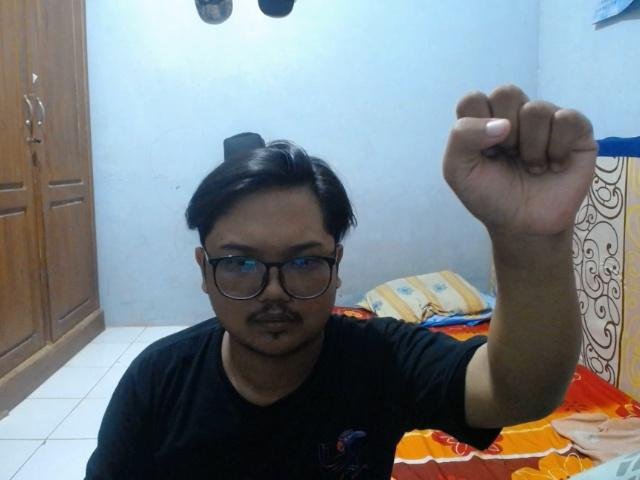Grab: (440, 81, 601, 242)
